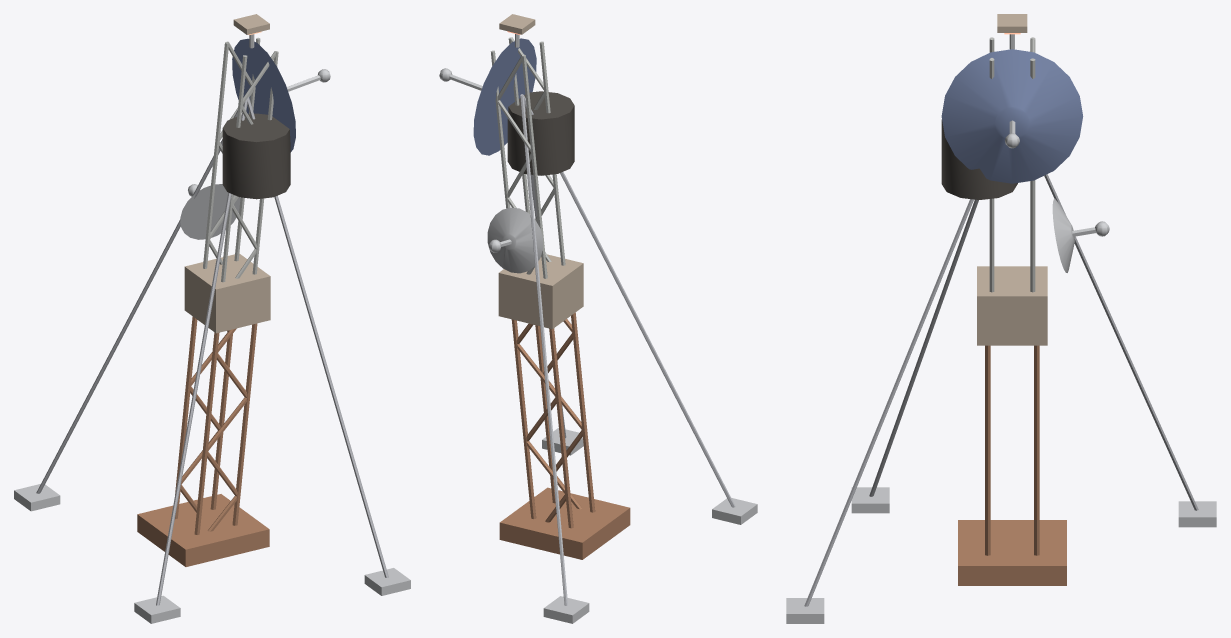
File: place_pirate_sensor_mast.glb
3 renders of one model, left to right at view 1: azimuth 30°, elevation 25°; view 2: azimuth 150°, elevation 25°; view 3: azimuth 270°, elevation 25°, orthographic. The views are drawn at different scales.
Parts seen in each view (by area): view 1: col_lo, foot, drum, splice, col_hi, stolen_dish_dish, guy1, guy2, side_dish_dish, guy0, guyplate2, guyplate1 (+1 smaller); view 2: col_lo, foot, splice, drum, col_hi, stolen_dish_dish, side_dish_dish, guy0, guy1, guyplate0, guyplate1, hood_shade (+1 smaller); view 3: stolen_dish_dish, foot, splice, col_lo, drum, guy2, col_hi, guy1, guy0, guyplate0, side_dish_dish, guyplate2 (+2 smaller).
Boxes of the visible parts, box(x1,y1,x2,y2) form: col_lo: box(175, 316, 257, 534); foot: box(137, 494, 269, 566); drum: box(222, 113, 290, 199); splice: box(184, 253, 270, 333); col_hi: box(203, 37, 278, 282); stolen_dish_dish: box(232, 38, 295, 152); guy1: box(156, 98, 247, 605); guy2: box(247, 96, 388, 577); side_dish_dish: box(180, 184, 240, 239); guy0: box(36, 104, 243, 493); guyplate2: box(364, 568, 410, 595); guyplate1: box(134, 595, 180, 623); col_lo: box(511, 312, 595, 528); foot: box(499, 487, 630, 559); splice: box(498, 254, 583, 329); drum: box(507, 91, 574, 175); col_hi: box(490, 37, 565, 278); stolen_dish_dish: box(473, 38, 536, 155); side_dish_dish: box(487, 207, 542, 273); guy0: box(520, 95, 567, 605); guy1: box(522, 94, 735, 507); guyplate0: box(543, 596, 589, 623); guyplate1: box(712, 498, 757, 524); hood_shade: box(499, 14, 535, 34); stolen_dish_dish: box(941, 49, 1083, 183); foot: box(958, 520, 1066, 585); splice: box(977, 266, 1047, 345); col_lo: box(985, 345, 1039, 555); drum: box(941, 119, 1017, 199); guy2: box(804, 199, 973, 606); col_hi: box(989, 37, 1035, 292); guy1: box(869, 199, 978, 496); guy0: box(1044, 174, 1198, 510); guyplate0: box(1178, 501, 1216, 527); side_dish_dish: box(1052, 198, 1074, 272); guyplate2: box(786, 598, 824, 623).
Size of the model in its own units: 5.97 by 11.6 by 7.9.
